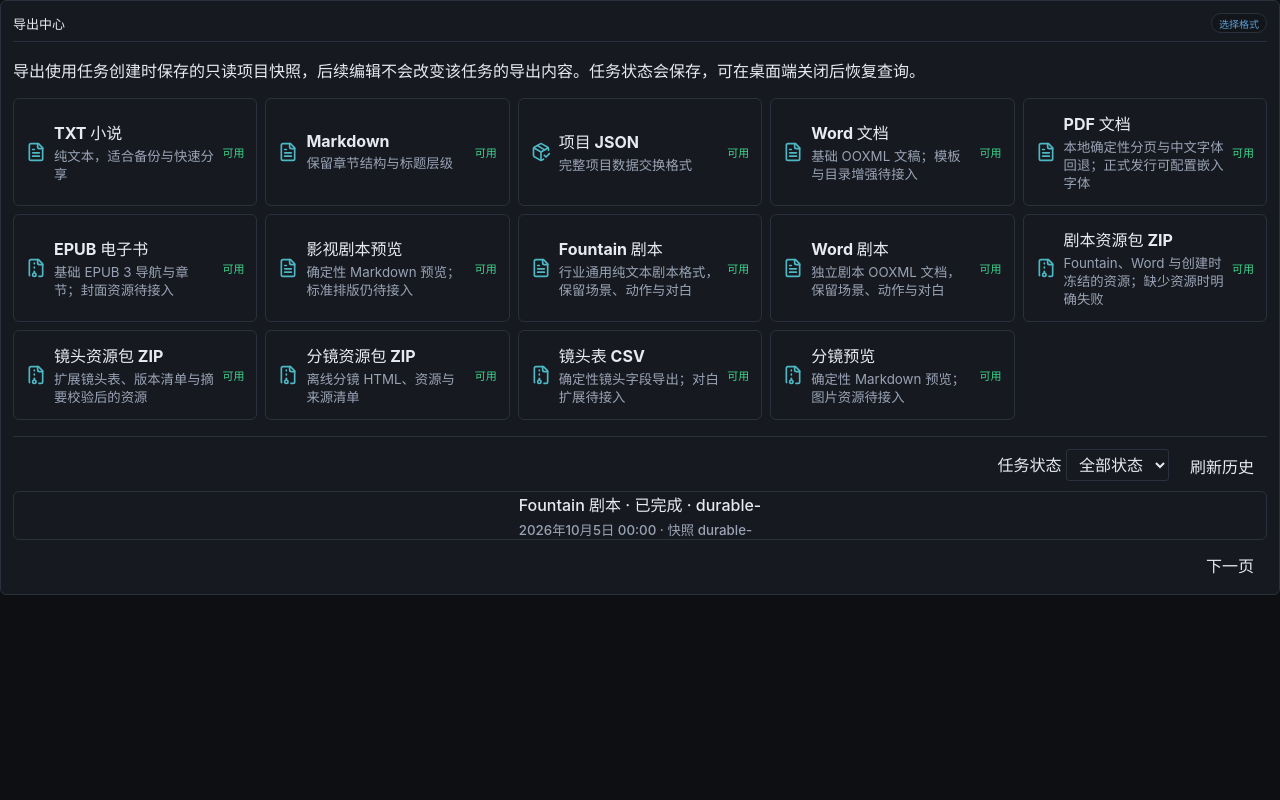
Test: paginates/filter history and retains a readable error with retry
This screenshot has width=1280, height=800.
Click the button "下一页" at (1230, 565), box [1193,548,1267,582]
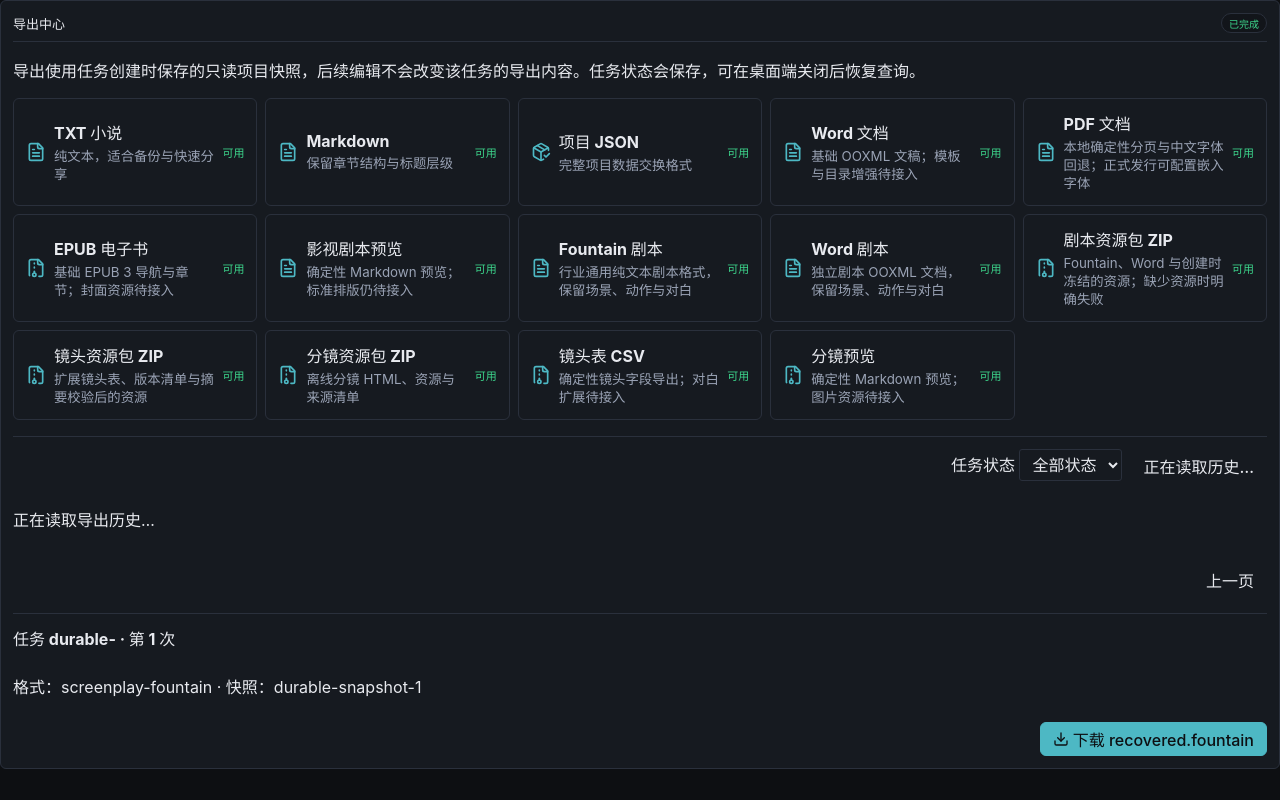
Select "失败" in the dropdown named "导出历史状态" at (1071, 465), box [1019,449,1122,481]
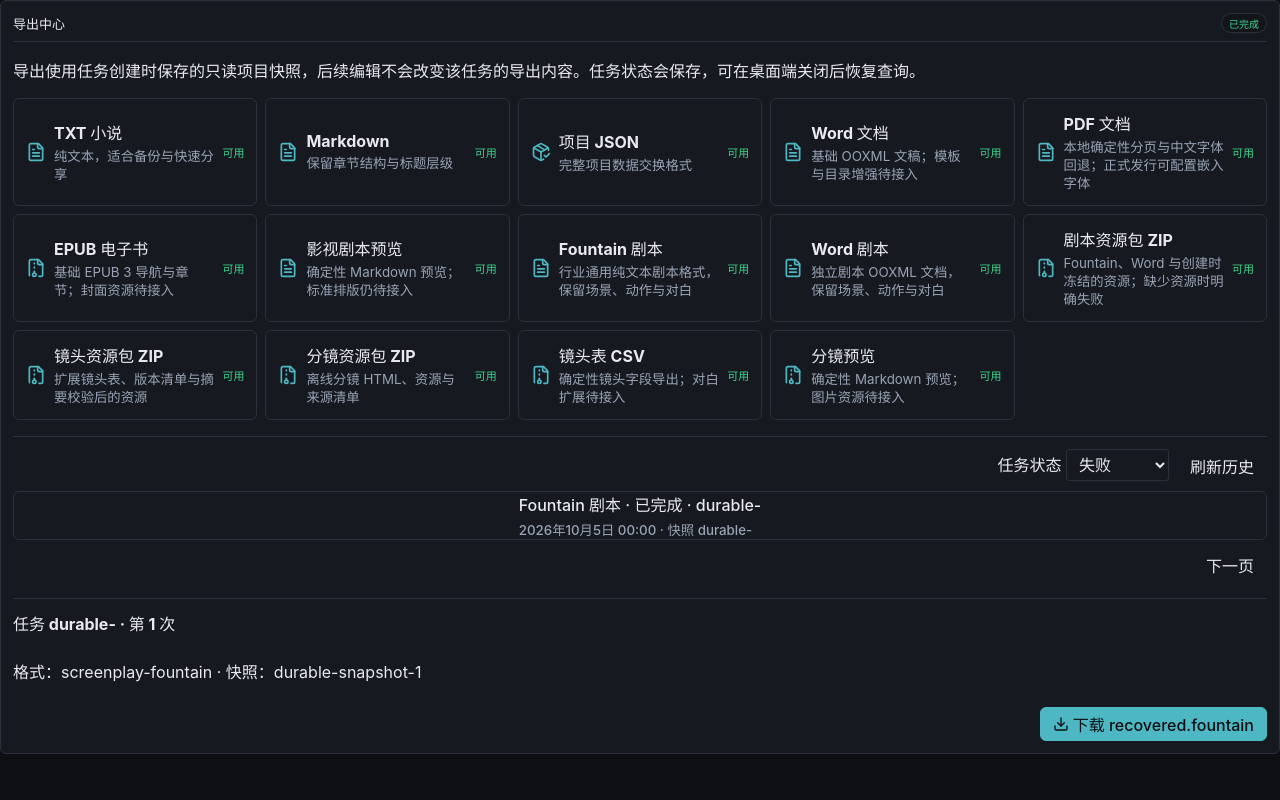
Click the button "刷新历史" at (1222, 466), box [1177,449,1267,483]
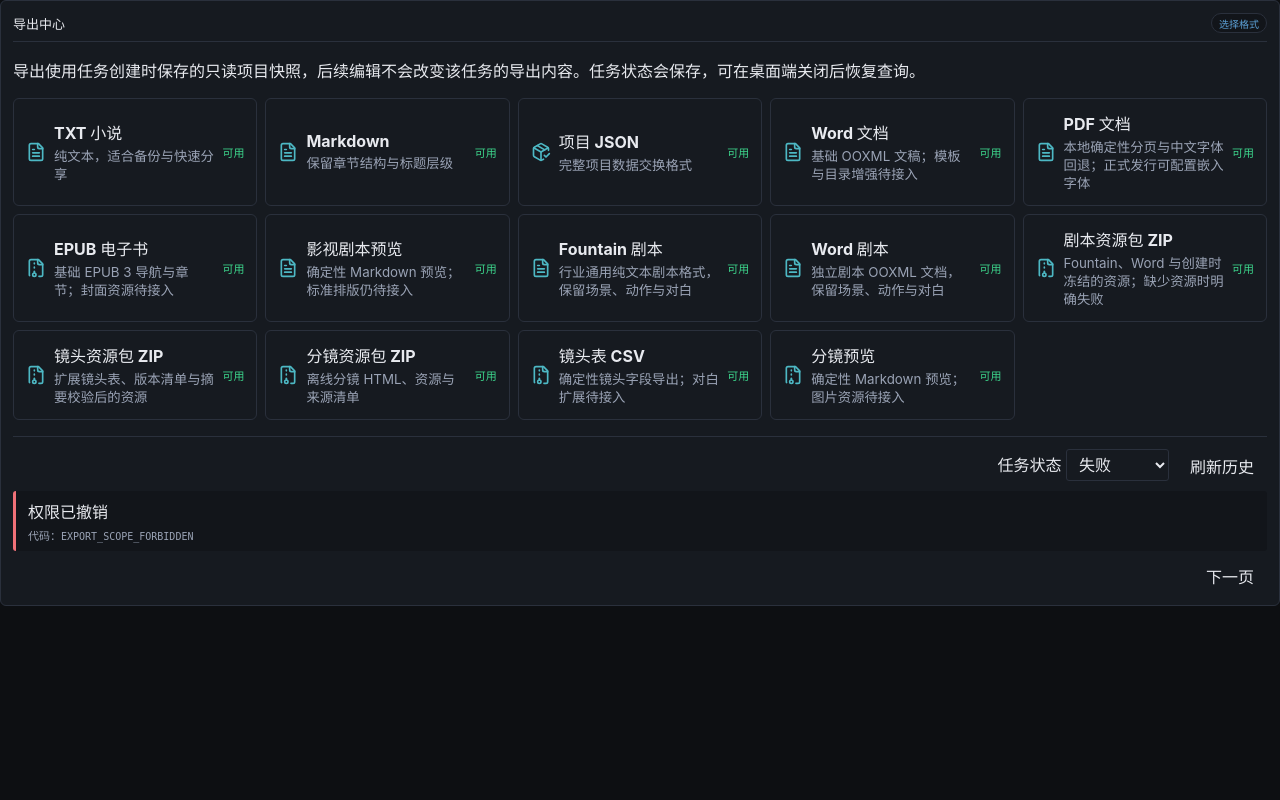
Result: the text "EXPORT_SCOPE_FORBIDDEN" is shown at [61,531,194,542]
Result: the button "Fountain 剧本 · 已完成" is gone
Click the button "刷新历史" at (1222, 466), box [1177,449,1267,483]
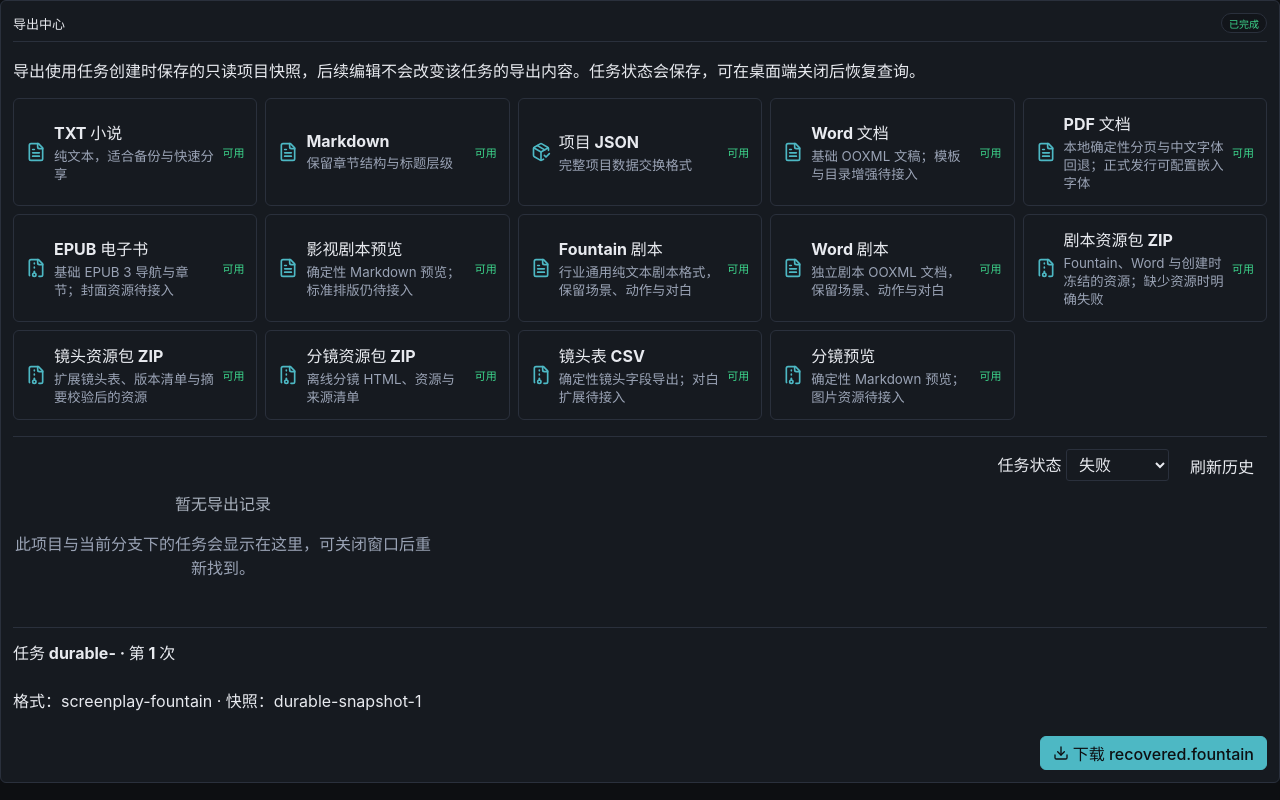
Result: the text "暂无导出记录" is shown at [175,494,271,514]
